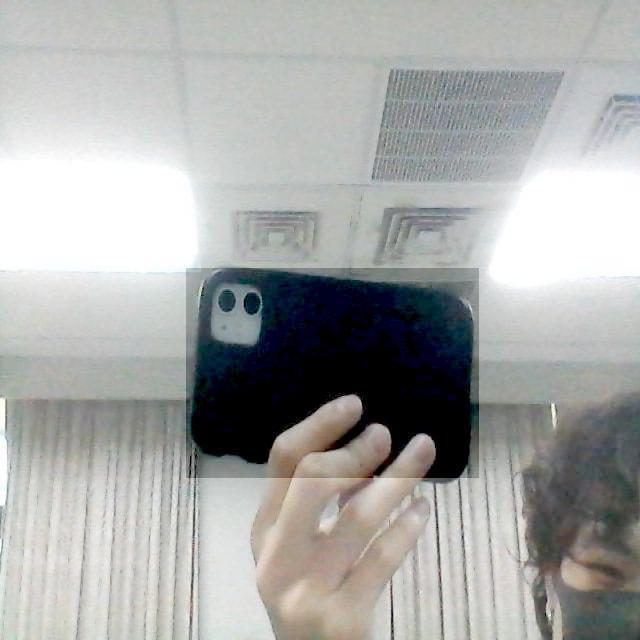mobile: (186, 268, 479, 478)
